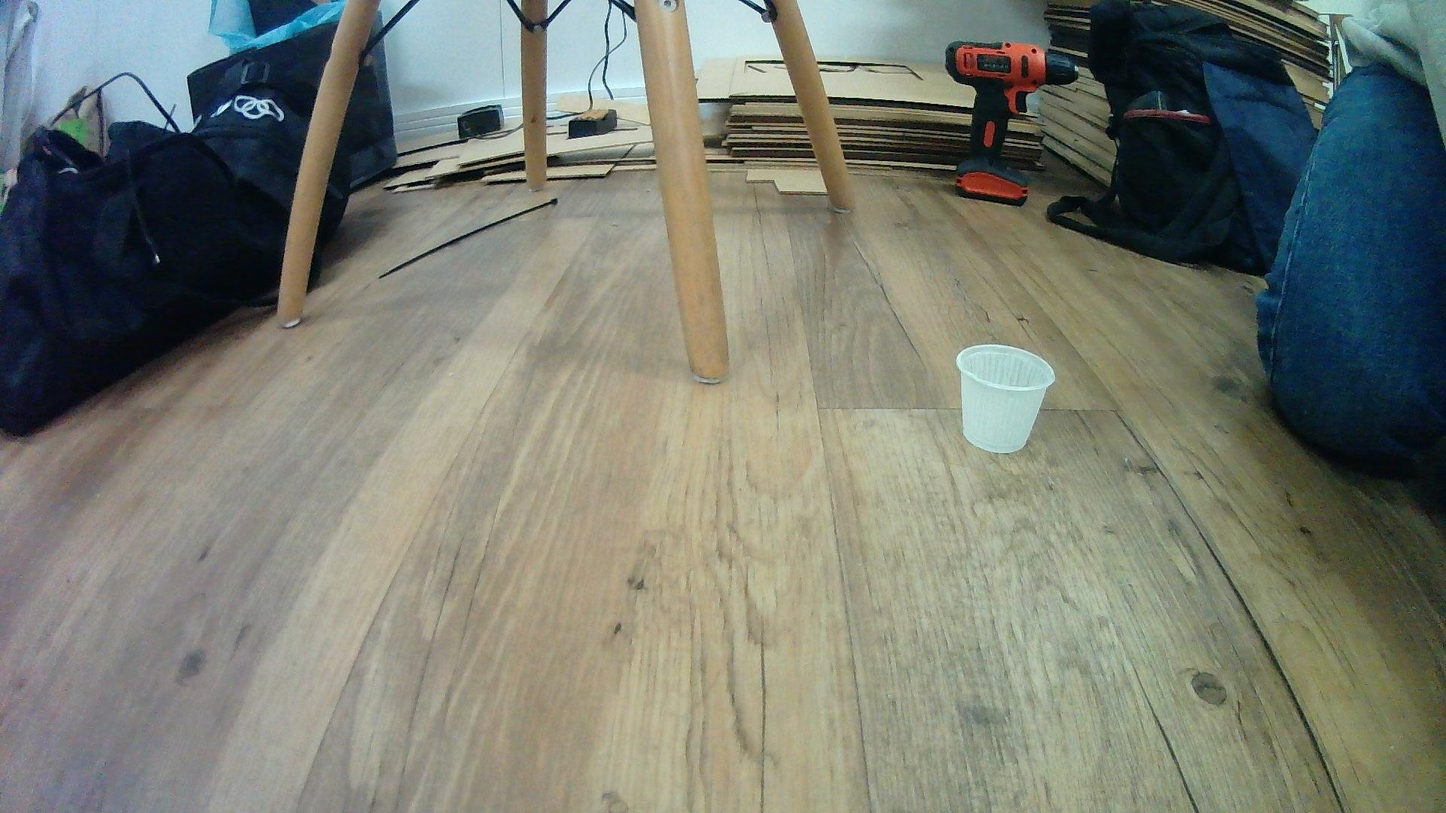planta: (955, 344, 1056, 455)
